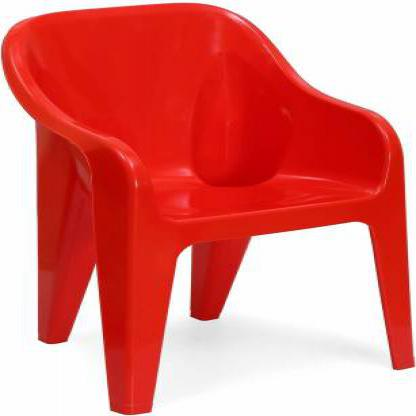chair: (1, 2, 415, 415)
